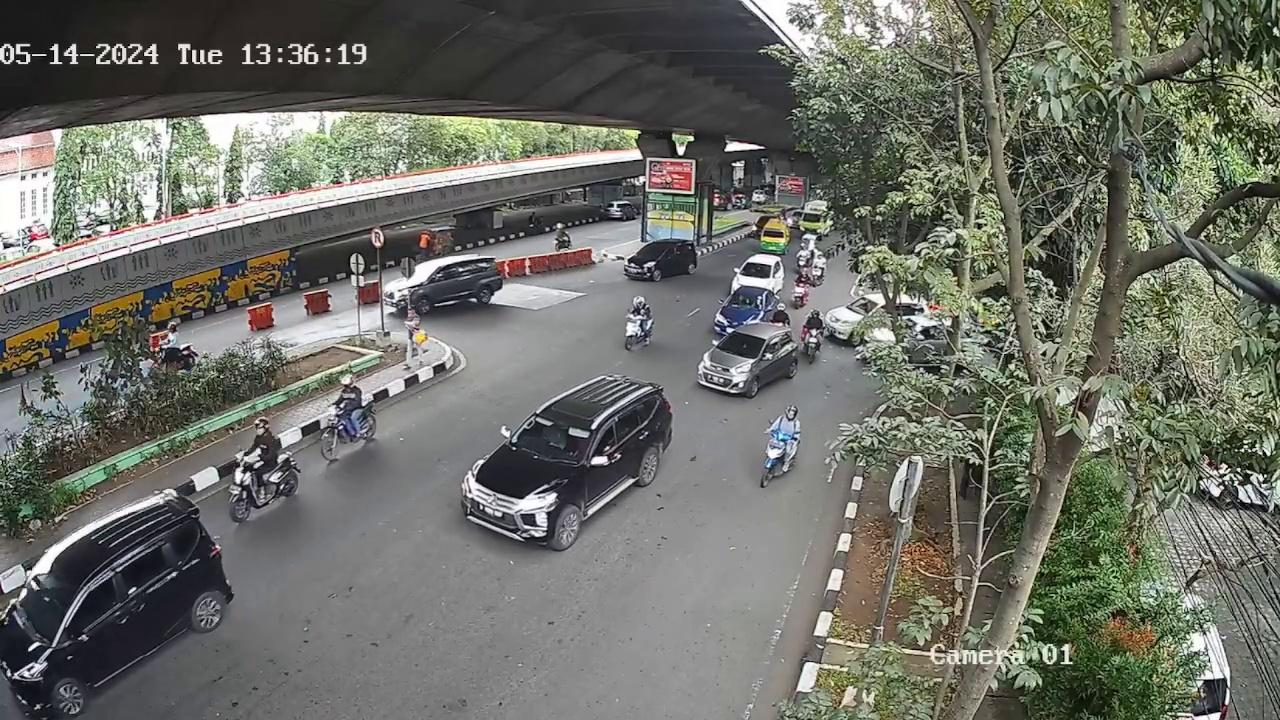tidak-pakai: (538, 425, 567, 449)
windshield: (513, 416, 595, 464), (716, 330, 767, 359)
